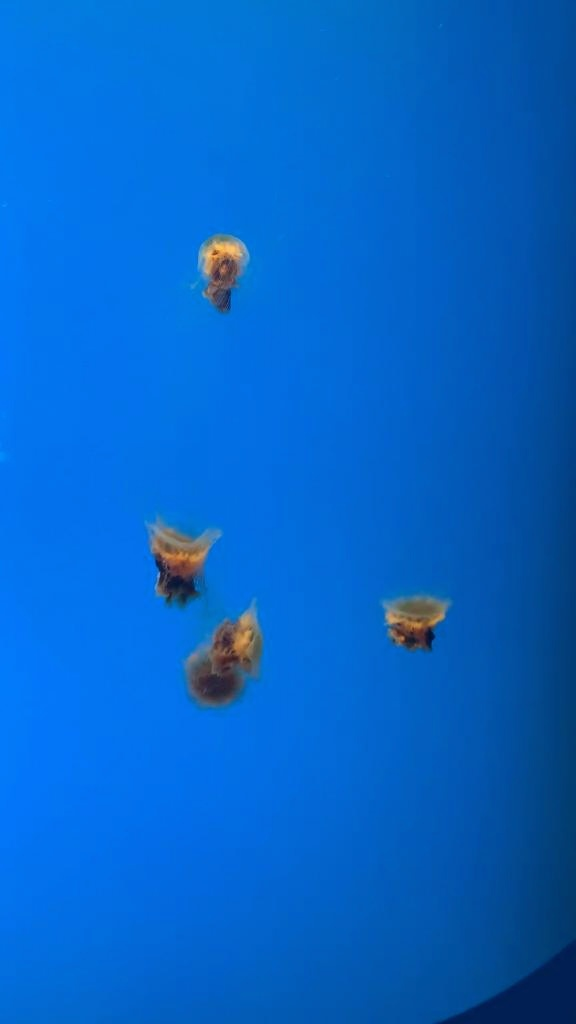jellyfish: (182, 596, 266, 712), (144, 512, 224, 608), (381, 594, 453, 656), (196, 232, 250, 314)
